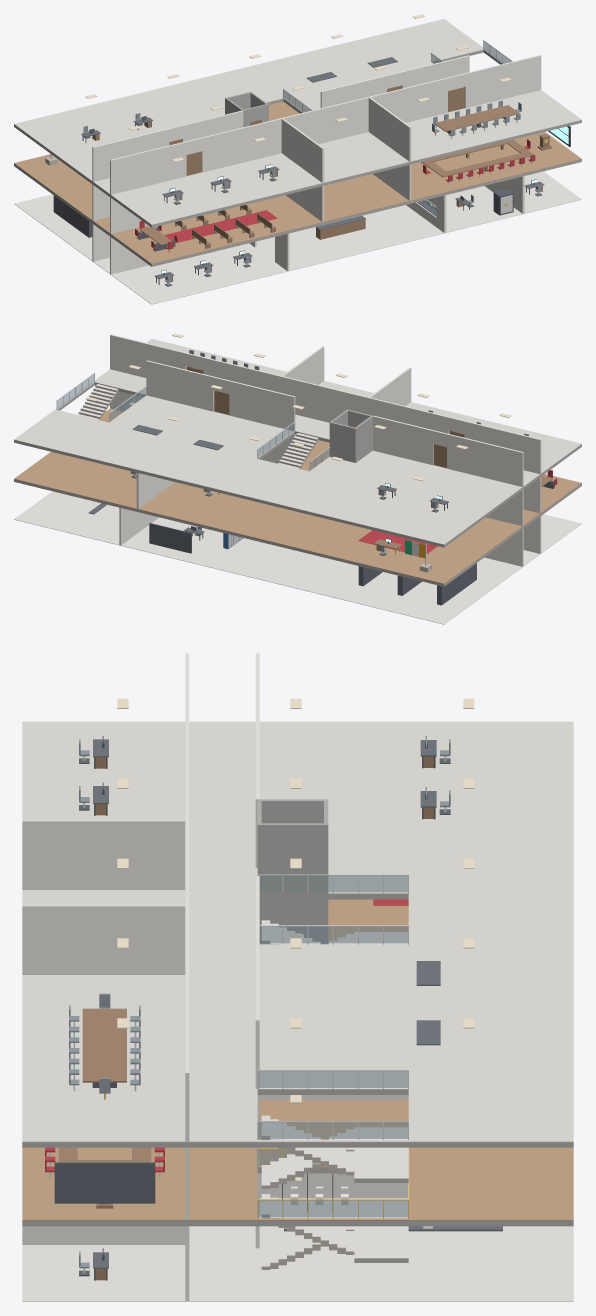
Rendered from SM_Mairie_Plateau_Interieur.fbx.
The picture shows the model from 3 angles, top to bottom: view 1: azimuth 30°, elevation 25°; view 2: azimuth 150°, elevation 25°; view 3: azimuth 270°, elevation 25°; orthographic projection. The views are drawn at different scales.
Parts seen in each view (by area): view 1: Mairie_Int_R2_Structure, Mairie_Int_R1_Structure, Mairie_Int_RDC_Structure, Mairie_Int_R1_Mobilier, Mairie_Int_RDC_Mobilier, Mairie_Int_R2_Mobilier; view 2: Mairie_Int_R2_Structure, Mairie_Int_R1_Structure, Mairie_Int_RDC_Structure, Mairie_Int_RDC_Mobilier, Mairie_Int_R1_Mobilier, Mairie_Int_R2_Mobilier; view 3: Mairie_Int_R2_Structure, Mairie_Int_R1_Structure, Mairie_Int_RDC_Structure, Mairie_Int_R2_Mobilier, Mairie_Int_R1_Mobilier, Mairie_Int_RDC_Mobilier.
Part boxes in pixels (x1,y1,x2,y2): Mairie_Int_R2_Structure: (14,14,581,227); Mairie_Int_R1_Structure: (14,101,581,266); Mairie_Int_RDC_Structure: (14,171,581,304); Mairie_Int_R1_Mobilier: (45,126,570,252); Mairie_Int_RDC_Mobilier: (53,179,544,286); Mairie_Int_R2_Mobilier: (81,57,521,204); Mairie_Int_R2_Structure: (14,333,581,547); Mairie_Int_R1_Structure: (14,384,581,586); Mairie_Int_RDC_Structure: (14,491,581,624); Mairie_Int_RDC_Mobilier: (88,503,476,605); Mairie_Int_R1_Mobilier: (130,470,557,572); Mairie_Int_R2_Mobilier: (132,350,528,512); Mairie_Int_R2_Structure: (22,653,573,1147); Mairie_Int_R1_Structure: (22,893,573,1226); Mairie_Int_RDC_Structure: (22,1173,573,1301); Mairie_Int_R2_Mobilier: (69,736,450,1099); Mairie_Int_R1_Mobilier: (45,899,408,1208); Mairie_Int_RDC_Mobilier: (79,1173,502,1280).
Size of the model in its own units: 4940 by 1270 by 2740.
